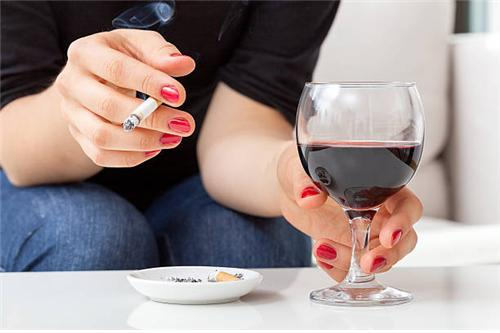alcohol: (293, 80, 428, 308)
cigarette: (122, 93, 171, 132), (207, 270, 243, 283)
